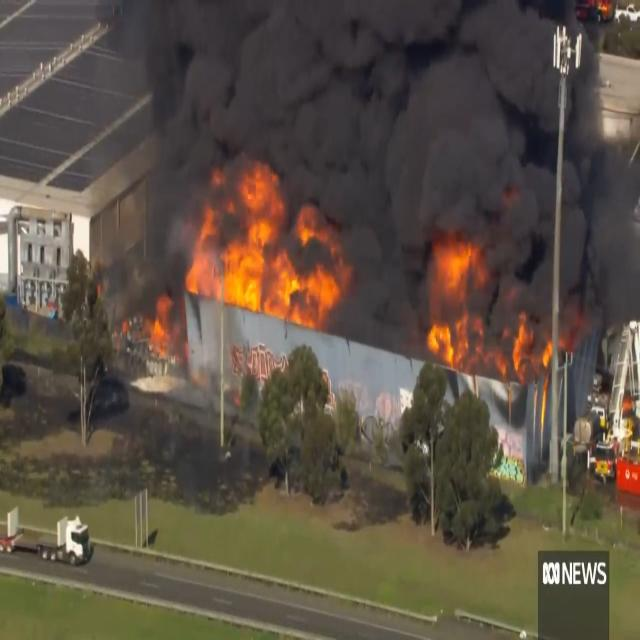fire: (184, 158, 352, 321), (424, 242, 485, 362), (513, 328, 562, 377)
